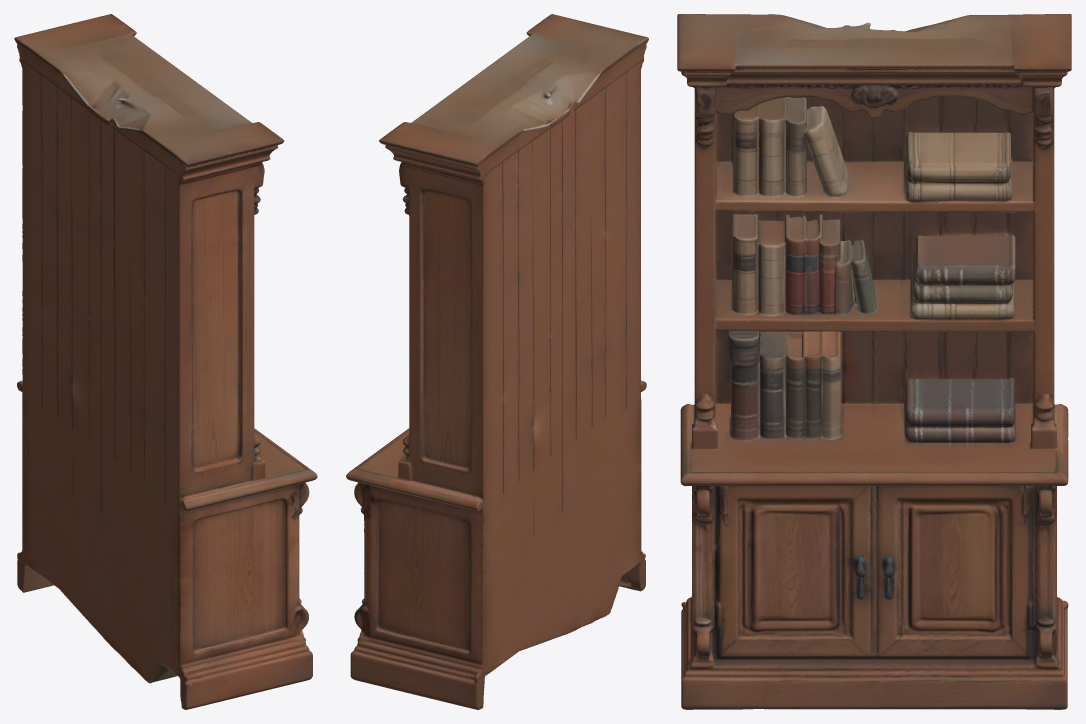
File: detailed_realistic_model_antiquebookshelf_04.glb
3 views of the same model, side by side, from view 1: azimuth 30°, elevation 25°; view 2: azimuth 150°, elevation 25°; view 3: azimuth 270°, elevation 25° (orthographic). The views are drawn at different scales.
Visible parts, largest first — view 1: tripo_node_31612fc5-a5a8-4a5a-895b-8250f58830c8; view 2: tripo_node_31612fc5-a5a8-4a5a-895b-8250f58830c8; view 3: tripo_node_31612fc5-a5a8-4a5a-895b-8250f58830c8.
Boxes of the visible parts, x1,y1,x2,y2 form: tripo_node_31612fc5-a5a8-4a5a-895b-8250f58830c8: (14, 14, 317, 709); tripo_node_31612fc5-a5a8-4a5a-895b-8250f58830c8: (346, 14, 648, 709); tripo_node_31612fc5-a5a8-4a5a-895b-8250f58830c8: (677, 14, 1071, 709).
Size of the model in its own units: 0.2522 by 1 by 0.5686.
1 material, 1 textured.
